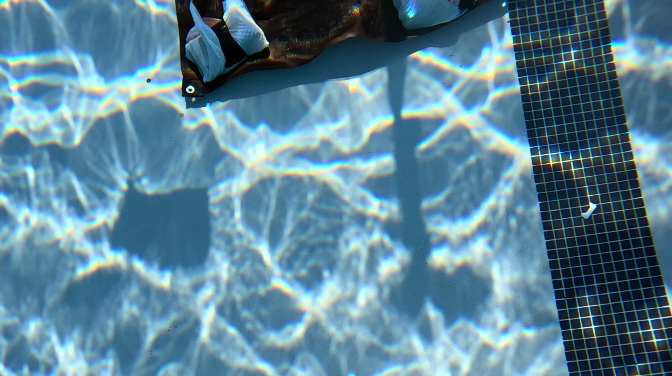sandbag: (175, 0, 490, 96)
